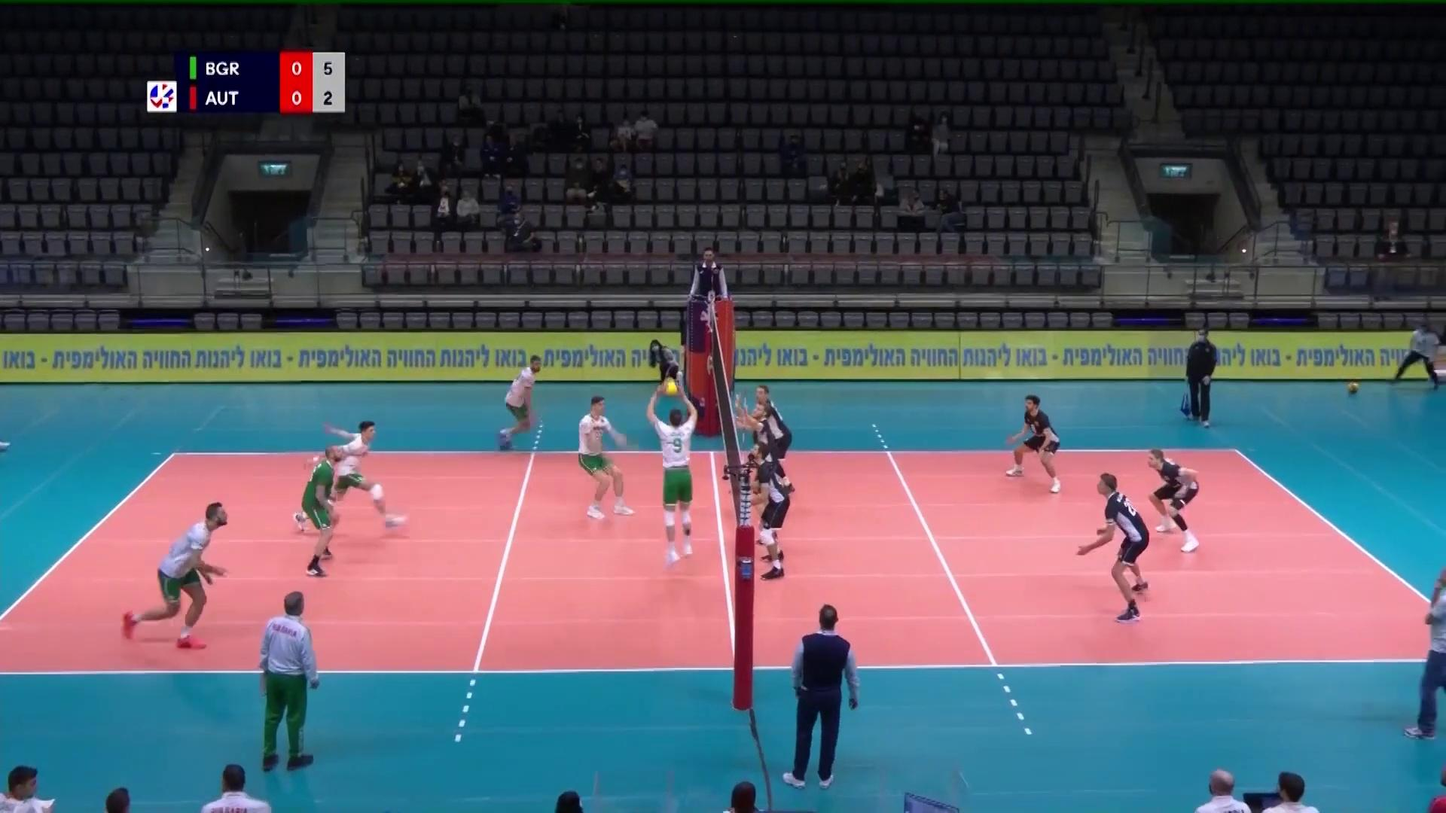ball: (663, 379, 679, 398)
